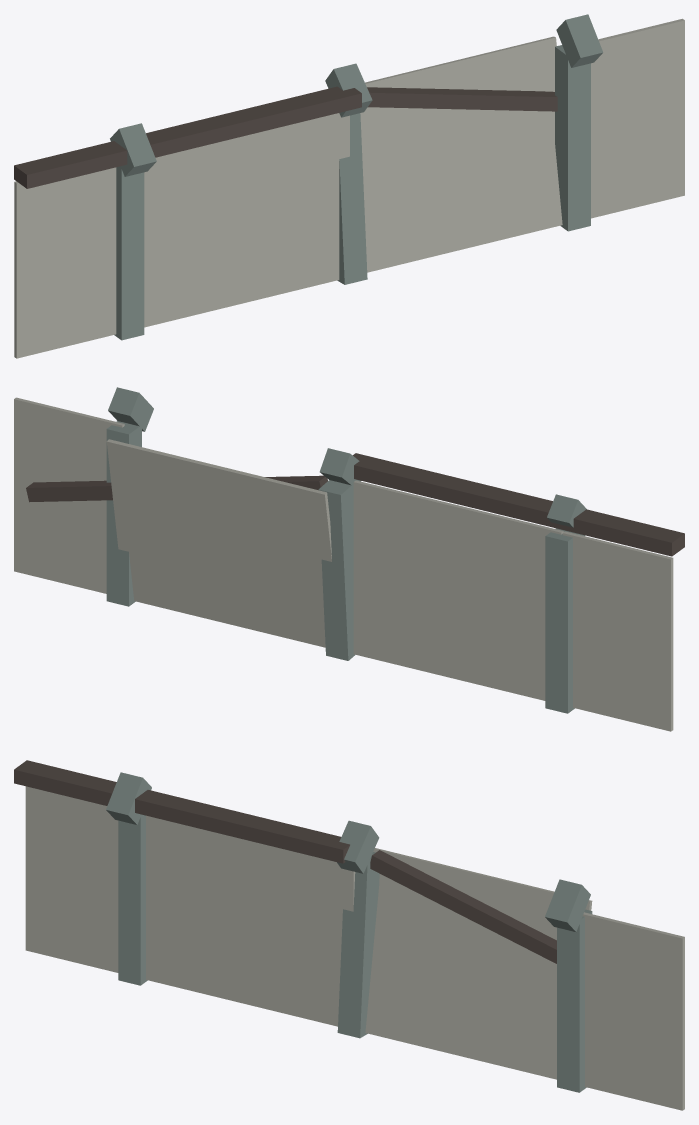
File: SM_VallaBetera_Malla_e1_SanaGolpeada_LOD1.fbx
The picture shows the model from 3 angles, top to bottom: view 1: azimuth 30°, elevation 25°; view 2: azimuth 150°, elevation 25°; view 3: azimuth 330°, elevation 25°; orthographic projection.
Visible parts, largest first — view 1: SM_valla_estados_v1_LOD1; view 2: SM_valla_estados_v1_LOD1; view 3: SM_valla_estados_v1_LOD1.
Part boxes in pixels (x1,y1,x2,y2): SM_valla_estados_v1_LOD1: (14,14,684,358); SM_valla_estados_v1_LOD1: (14,387,684,731); SM_valla_estados_v1_LOD1: (14,760,684,1110).
Bounding box in the file's own units: 9.99 × 3.01 × 0.9718.
